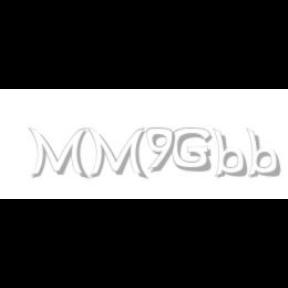9: (146, 128, 176, 172)
G: (172, 128, 212, 172)
M: (86, 128, 146, 180), (29, 128, 88, 180)
b: (213, 128, 251, 178), (246, 128, 284, 178)
